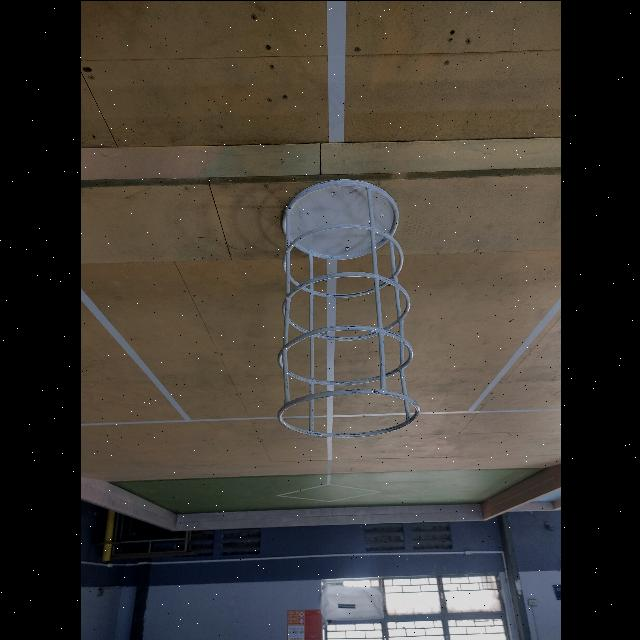S: (275, 177, 422, 437)
